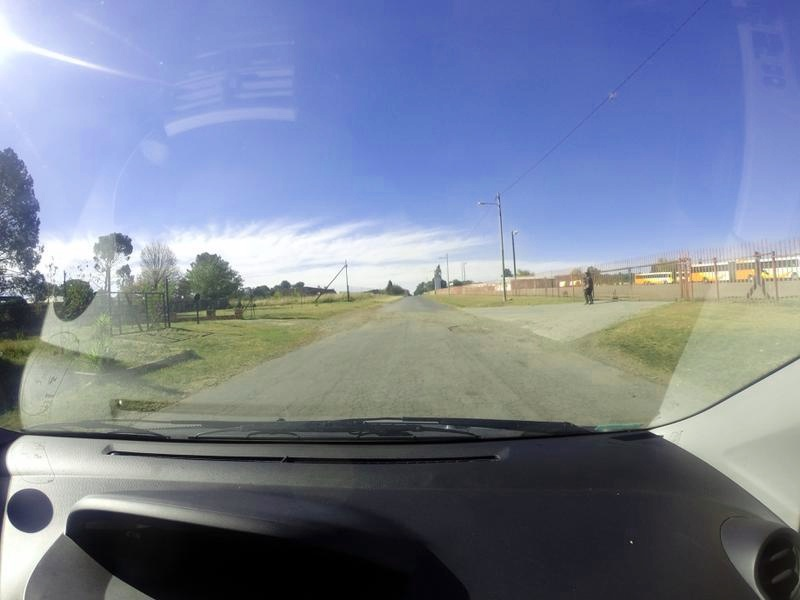pothole: (441, 310, 500, 340)
